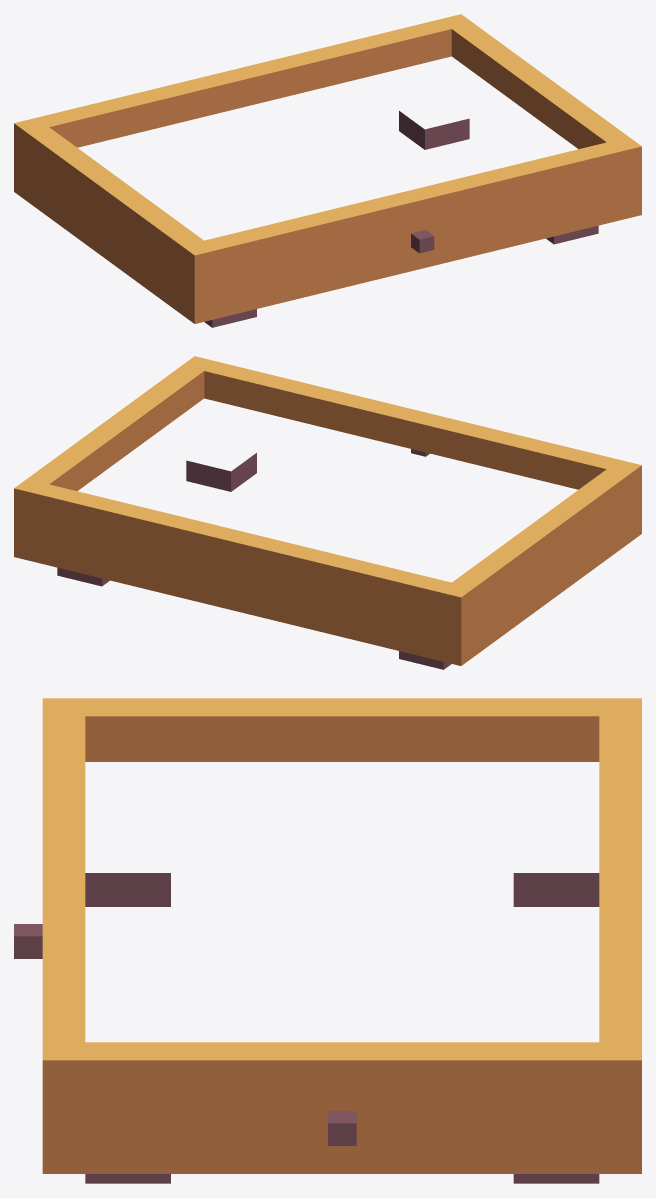
Rendered from frame.glb.
The picture shows the model from 3 angles, top to bottom: view 1: azimuth 30°, elevation 25°; view 2: azimuth 150°, elevation 25°; view 3: azimuth 270°, elevation 25°; orthographic projection. The views are drawn at different scales.
Visible parts, largest first — view 1: Frame; view 2: Frame; view 3: Frame.
Part boxes in pixels (<box>): Frame: <box>14,14,641,327</box>; Frame: <box>14,356,641,669</box>; Frame: <box>14,698,641,1183</box>.
Bounding box in the file's own units: 9.3 × 1.72 × 6.6.
